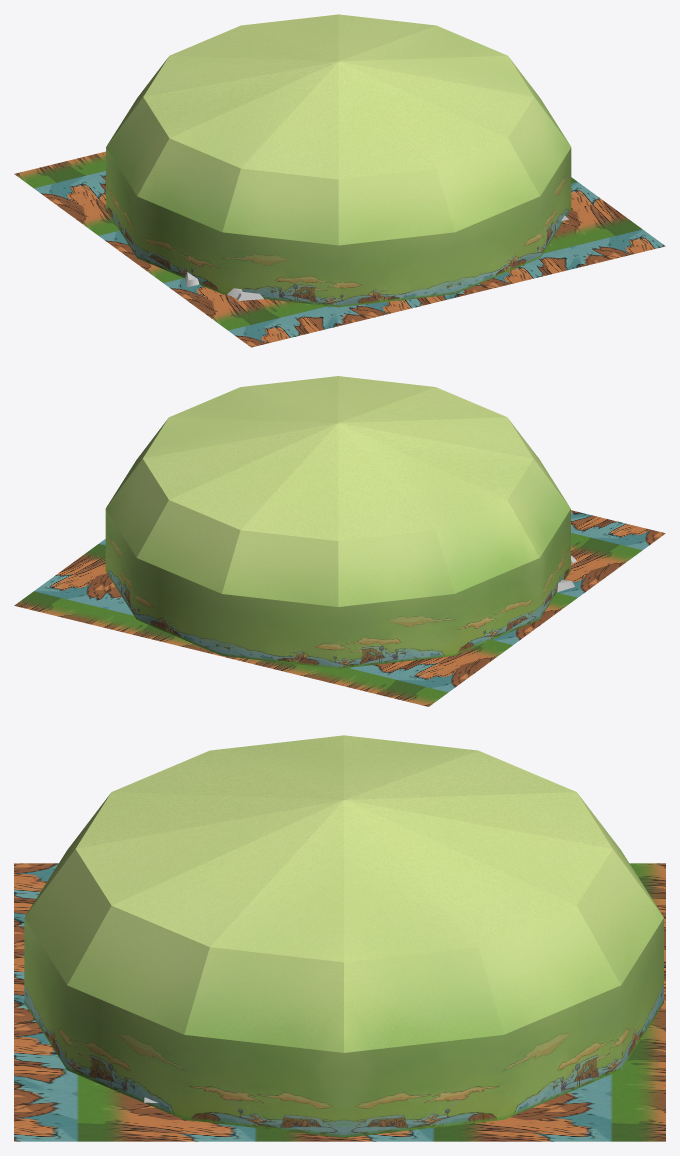
The model's file is zhengge.FBX.
The picture shows the model from 3 angles, top to bottom: view 1: azimuth 30°, elevation 25°; view 2: azimuth 150°, elevation 25°; view 3: azimuth 270°, elevation 25°; orthographic projection. The views are drawn at different scales.
Parts seen in each view (by area): view 1: Cylinder019, Plane003; view 2: Cylinder019, Plane003; view 3: Cylinder019, Plane003.
Part boxes in pixels (box(x1,y1,x2,y2)): Cylinder019: box(106, 14, 571, 307); Plane003: box(14, 151, 665, 347); Cylinder019: box(105, 376, 570, 668); Plane003: box(14, 510, 665, 706); Cylinder019: box(24, 735, 663, 1137); Plane003: box(14, 863, 665, 1141).
Bounding box in the file's own units: 61518 × 21455 × 60937.
